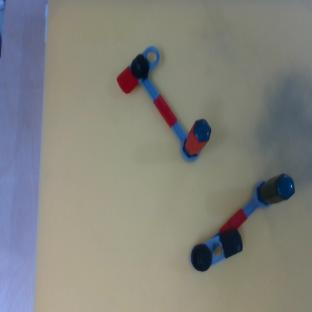non_pass: (183, 163, 302, 283)
pass: (111, 42, 229, 166)
